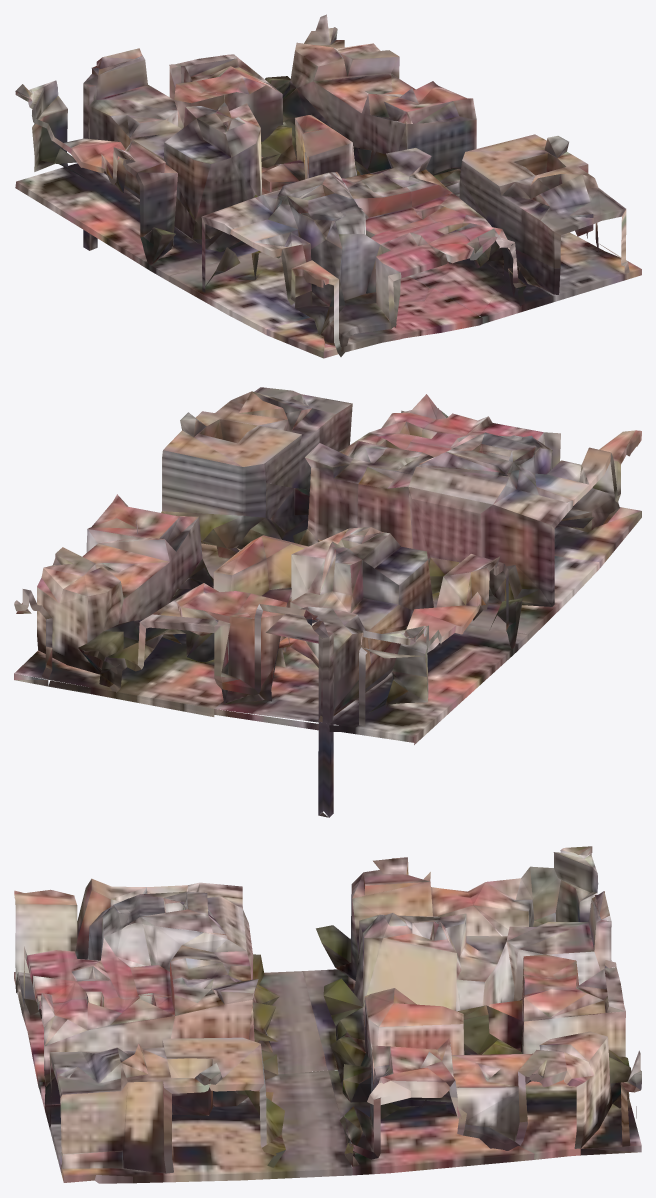
3 views of the same model, one above another, from view 1: azimuth 30°, elevation 25°; view 2: azimuth 150°, elevation 25°; view 3: azimuth 270°, elevation 25° (orthographic). The views are drawn at different scales.
Visible parts, largest first — view 1: Mesh_0; view 2: Mesh_0; view 3: Mesh_0.
Part boxes in pixels (left/top/right/bottom): Mesh_0: left=15, top=14, right=641, bottom=358; Mesh_0: left=14, top=387, right=641, bottom=817; Mesh_0: left=14, top=846, right=641, bottom=1183.
Size of the model in its own units: 134 by 60.59 by 165.
Materials: 1 (1 with a texture image).
